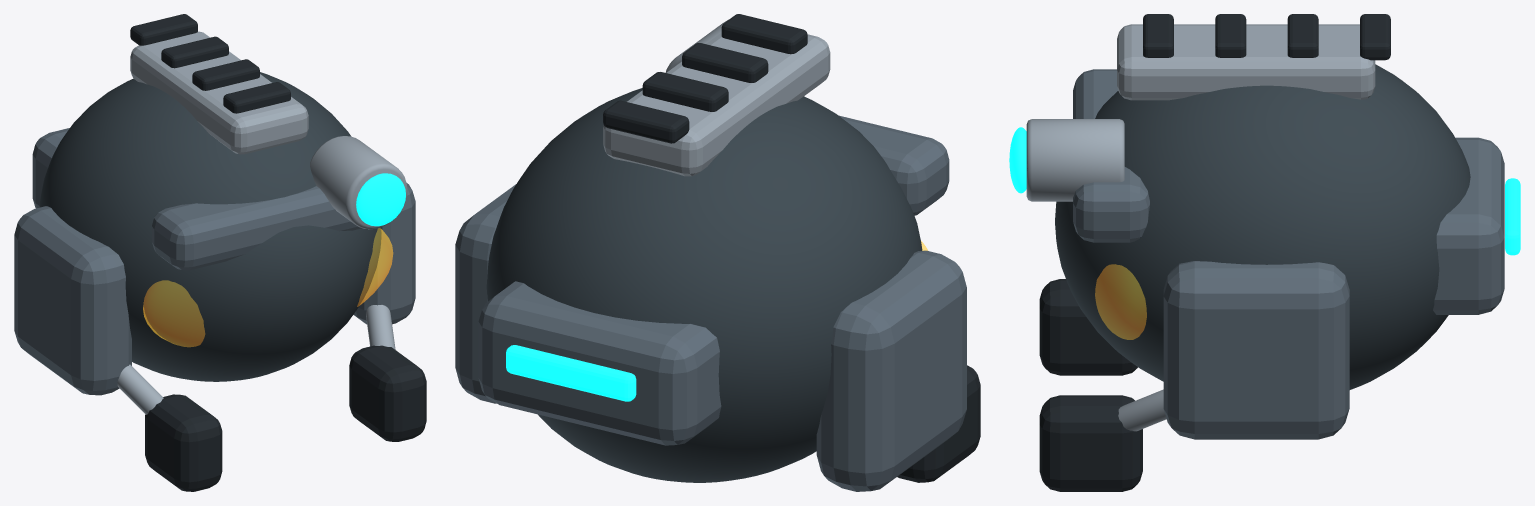
Rendered from tactical_helmet.glb.
3 renders of one model, left to right at view 1: azimuth 30°, elevation 25°; view 2: azimuth 150°, elevation 25°; view 3: azimuth 270°, elevation 25°, orthographic. The views are drawn at different scales.
Visible parts, largest first — view 1: Helmet_MainShell, Helmet_LeftSidePlate, Helmet_BrowArmour, Helmet_TopRail, Helmet_RightJawPad, Helmet_LeftJawPad, Helmet_FrontVisor, Helmet_RightSidePlate, Helmet_CameraHousing, Helmet_CameraLens, Helmet_TopRailSlot_4, Helmet_TopRailSlot_1 (+5 smaller); view 2: Helmet_MainShell, Helmet_LeftSidePlate, Helmet_RearBattery, Helmet_TopRail, Helmet_RightSidePlate, Helmet_BrowArmour, Helmet_RearSignal, Helmet_LeftJawPad, Helmet_TopRailSlot_4, Helmet_TopRailSlot_1, Helmet_TopRailSlot_3, Helmet_TopRailSlot_2; view 3: Helmet_MainShell, Helmet_RightSidePlate, Helmet_TopRail, Helmet_RearBattery, Helmet_RightJawPad, Helmet_CameraHousing, Helmet_BrowArmour, Helmet_LeftJawPad, Helmet_FrontVisor, Helmet_TopRailSlot_4, Helmet_TopRailSlot_2, Helmet_TopRailSlot_3 (+4 smaller).
Part boxes in pixels (x1,y1,x2,y2): Helmet_MainShell: [39, 72, 382, 381]; Helmet_LeftSidePlate: [14, 206, 131, 395]; Helmet_BrowArmour: [152, 186, 361, 270]; Helmet_TopRail: [130, 31, 308, 154]; Helmet_RightJawPad: [349, 345, 426, 441]; Helmet_LeftJawPad: [145, 394, 222, 491]; Helmet_FrontVisor: [143, 228, 393, 346]; Helmet_RightSidePlate: [353, 183, 415, 324]; Helmet_CameraHousing: [310, 136, 407, 229]; Helmet_CameraLens: [356, 173, 405, 226]; Helmet_TopRailSlot_4: [130, 14, 197, 45]; Helmet_TopRailSlot_1: [223, 82, 290, 113]; Helmet_MainShell: [486, 88, 922, 482]; Helmet_LeftSidePlate: [816, 250, 966, 491]; Helmet_RearBattery: [478, 281, 721, 445]; Helmet_TopRail: [603, 32, 830, 176]; Helmet_RightSidePlate: [455, 184, 516, 403]; Helmet_BrowArmour: [839, 115, 949, 215]; Helmet_RearSignal: [506, 345, 636, 401]; Helmet_LeftJawPad: [897, 365, 980, 482]; Helmet_TopRailSlot_4: [603, 100, 689, 143]; Helmet_TopRailSlot_1: [721, 14, 807, 54]; Helmet_TopRailSlot_3: [642, 72, 728, 111]; Helmet_TopRailSlot_2: [682, 43, 768, 82]; Helmet_MainShell: [1055, 64, 1470, 389]; Helmet_RightSidePlate: [1163, 261, 1349, 439]; Helmet_TopRail: [1117, 24, 1375, 100]; Helmet_RearBattery: [1433, 137, 1504, 314]; Helmet_RightJawPad: [1039, 395, 1142, 491]; Helmet_CameraHousing: [1026, 119, 1124, 201]; Helmet_BrowArmour: [1073, 69, 1149, 242]; Helmet_LeftJawPad: [1039, 279, 1137, 375]; Helmet_FrontVisor: [1095, 264, 1146, 339]; Helmet_TopRailSlot_4: [1360, 14, 1390, 60]; Helmet_TopRailSlot_2: [1215, 14, 1246, 57]; Helmet_TopRailSlot_3: [1287, 14, 1318, 57].
Size of the model in its own units: 0.445 by 0.426 by 0.4947.
